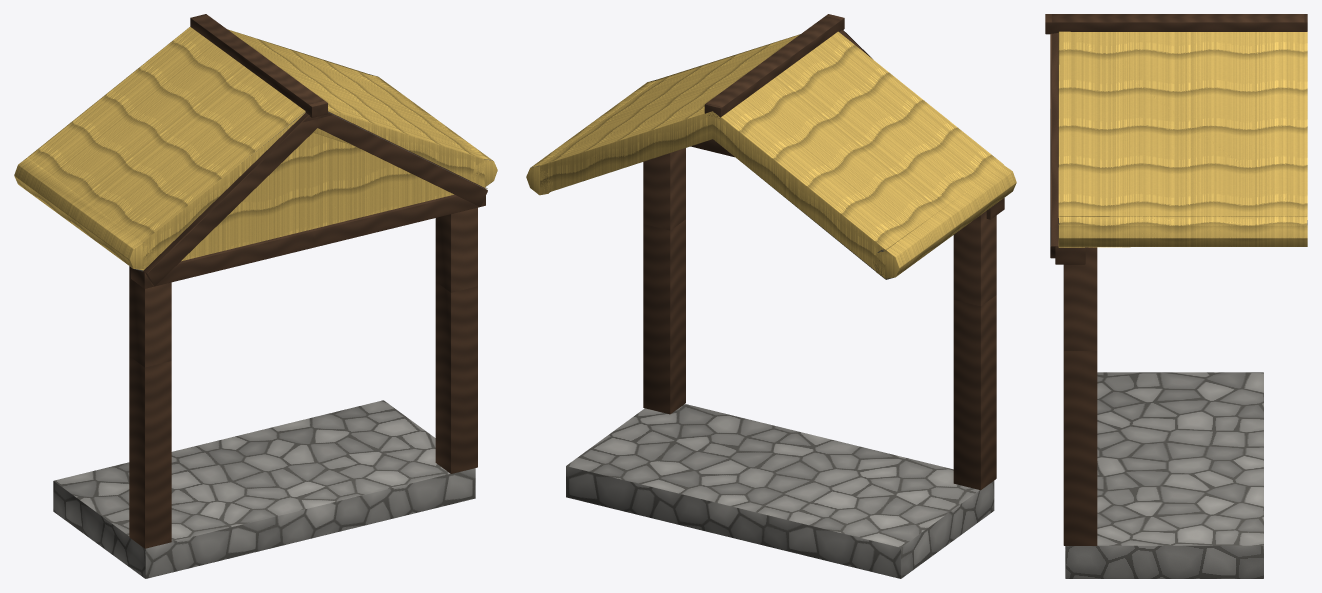
The model's file is porch_thatch_canopy.glb.
The picture shows the model from 3 angles, left to right: view 1: azimuth 30°, elevation 25°; view 2: azimuth 150°, elevation 25°; view 3: azimuth 270°, elevation 25°; orthographic projection. The views are drawn at different scales.
Visible parts, largest first — view 1: porch_thatch_canopy_0; view 2: porch_thatch_canopy_0; view 3: porch_thatch_canopy_0.
Part boxes in pixels (x1,y1,x2,y2): porch_thatch_canopy_0: (14, 14, 497, 578); porch_thatch_canopy_0: (526, 14, 1016, 578); porch_thatch_canopy_0: (1045, 14, 1307, 578).
Bounding box in the file's own units: 2.72 × 3.11 × 1.56.
3 materials, 3 textured.
